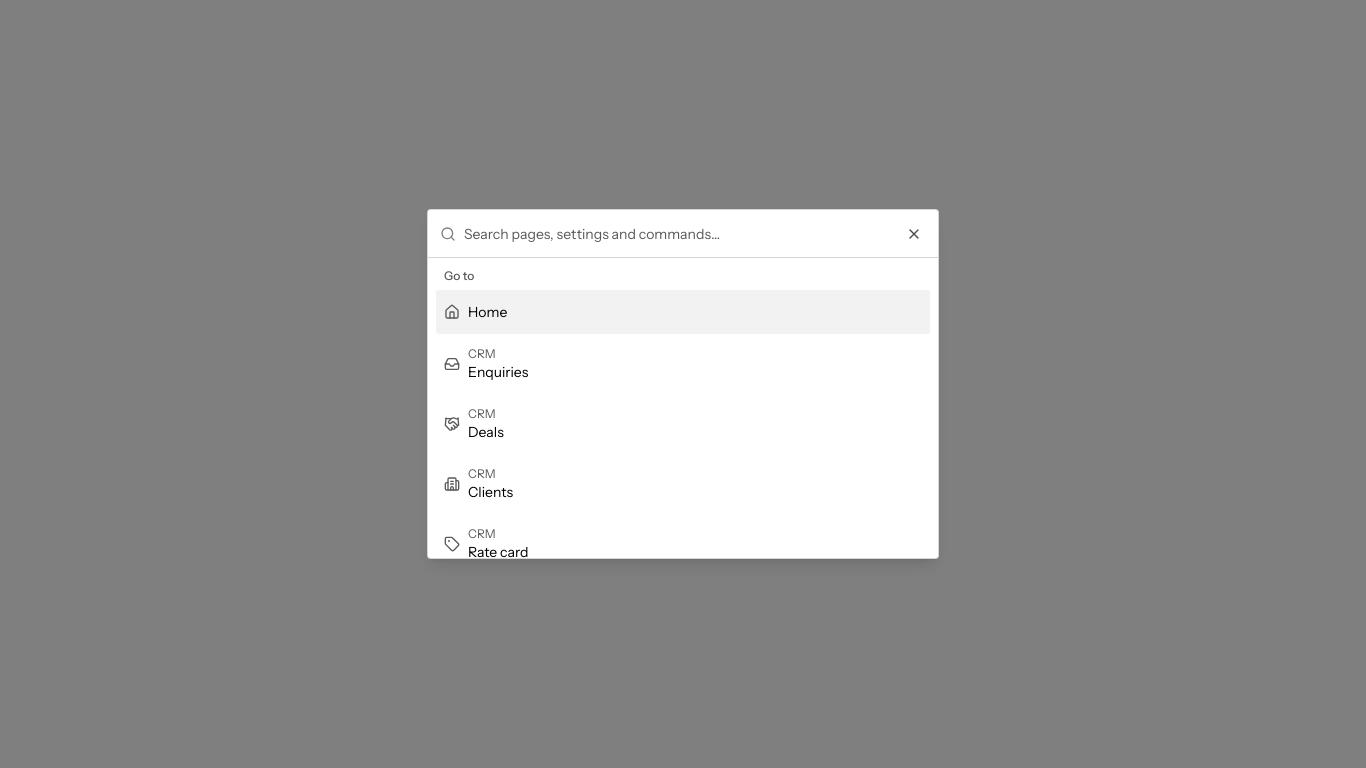
Test: typing into the palette › finds a setting by a word that appears on no page or heading
Type "vat" into the dropdown with placeholder "Search pages, settings and commands…". click: (695,234)
box: [464,210,926,258]
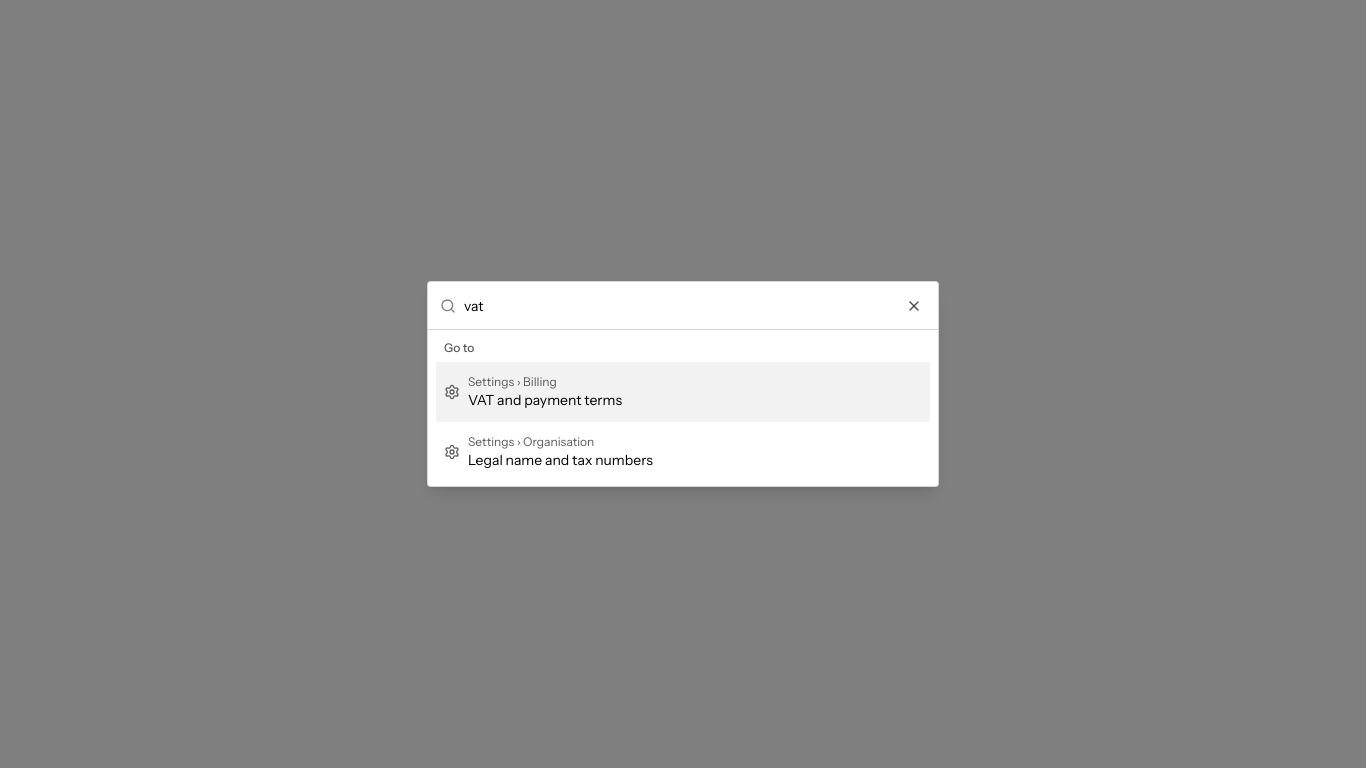
Expected: the text "VAT and payment terms" is shown, [468,390,622,410]
Expected: the text "Settings › Billing" is shown, [468,374,557,389]
